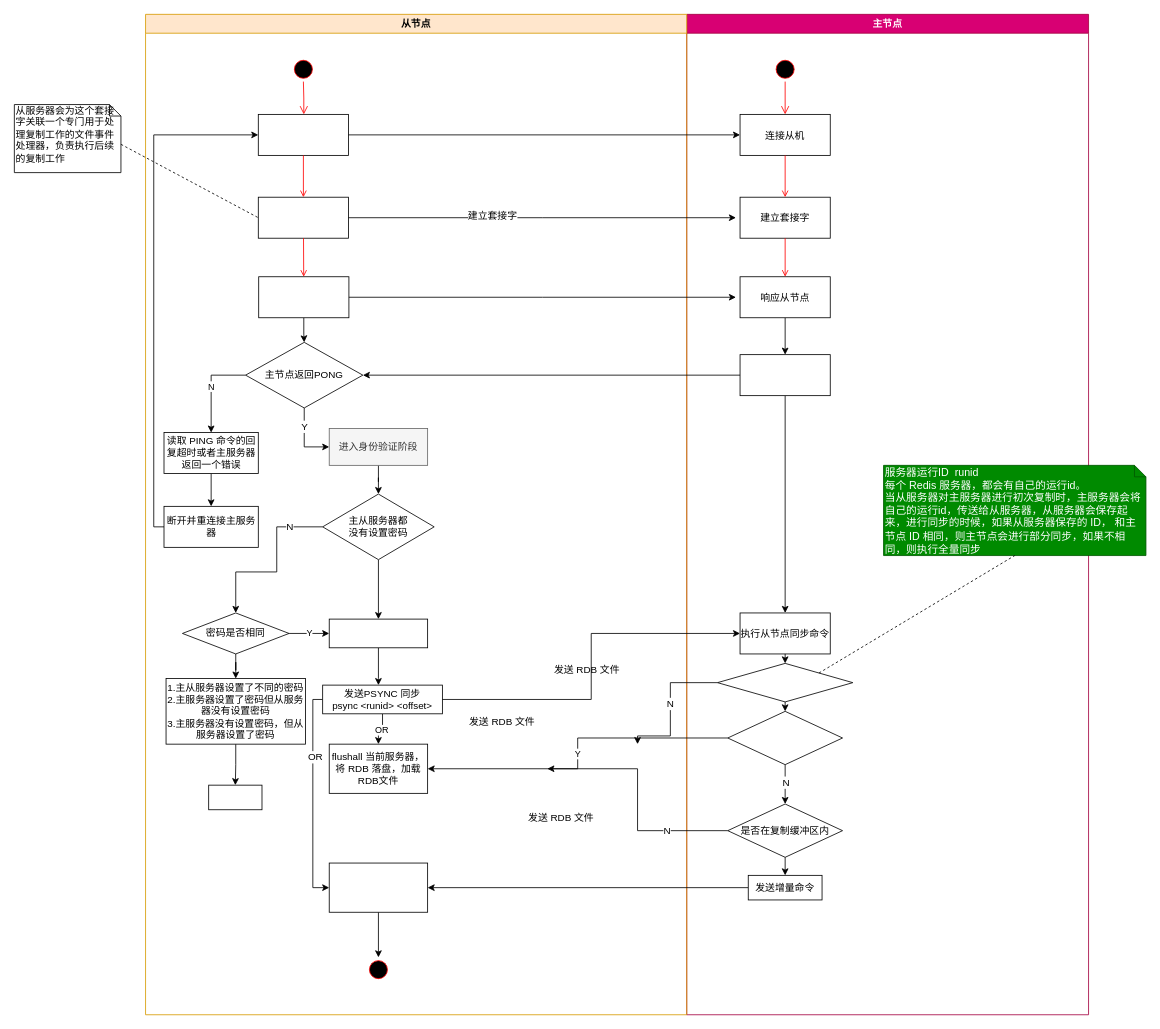
The diagram is 1160 pixels wide and 1029 high, and some of its shapes have lost their labels. Each missing label, with the centre of its shape:
runid 是否是自己: the point at 785,682
发送 PING 命令: the point at 303,297
发送 SLAVEOF 命令 先连接上主机: the point at 302,134
发送端口信息: the point at 378,633
和主节点建 立连接套接字: the point at 302,217
回复 从节点 PING 命令: the point at 784,375
处理增量命令，同步: the point at 378,887
是否是第一次同步: the point at 785,738
重试: the point at 235,797
